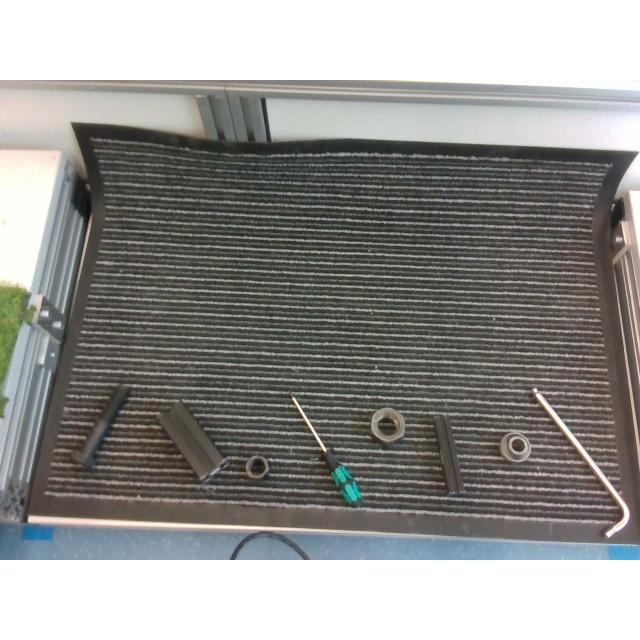AllenKey: (531, 388, 629, 536)
Bearing2: (500, 432, 530, 461)
F20_20_B: (432, 413, 463, 493)
M20: (245, 456, 269, 480)
M20_100: (71, 384, 129, 468)
M30: (370, 408, 404, 440)
S40_40_B: (157, 402, 230, 486)
Screwdriver: (290, 394, 362, 506)
